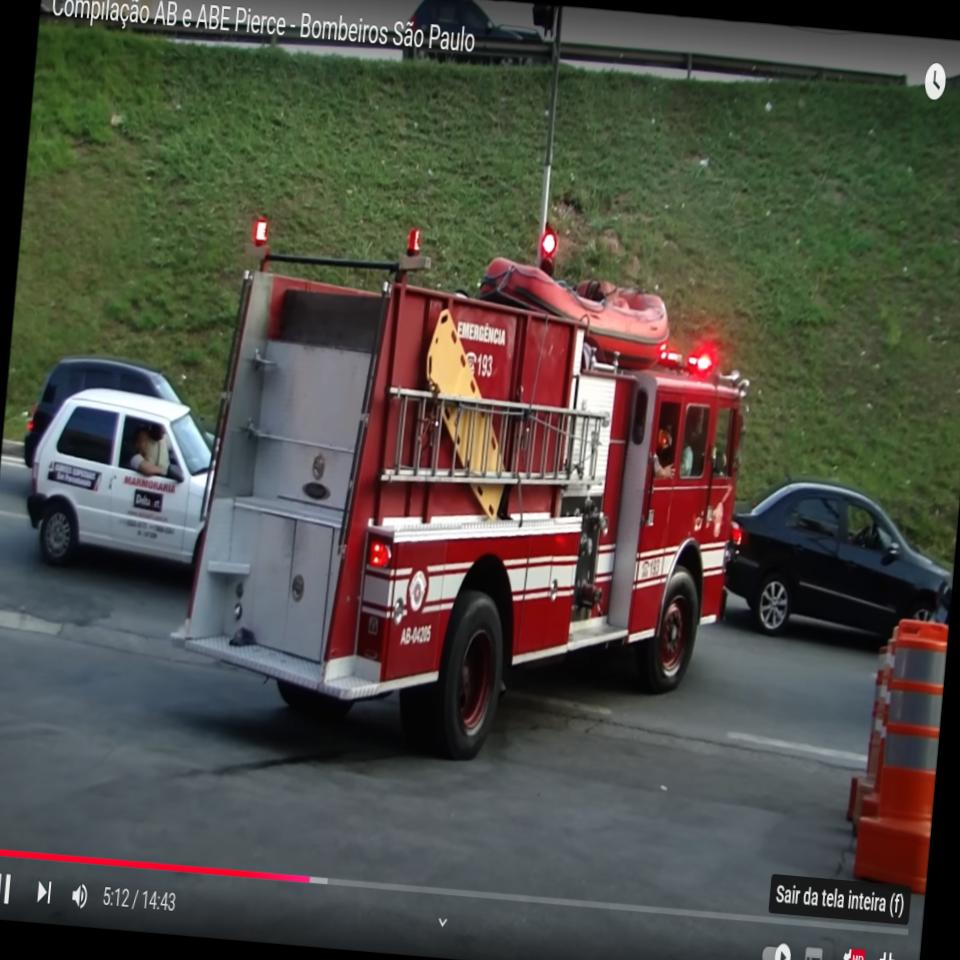viatura: (160, 204, 764, 778)
